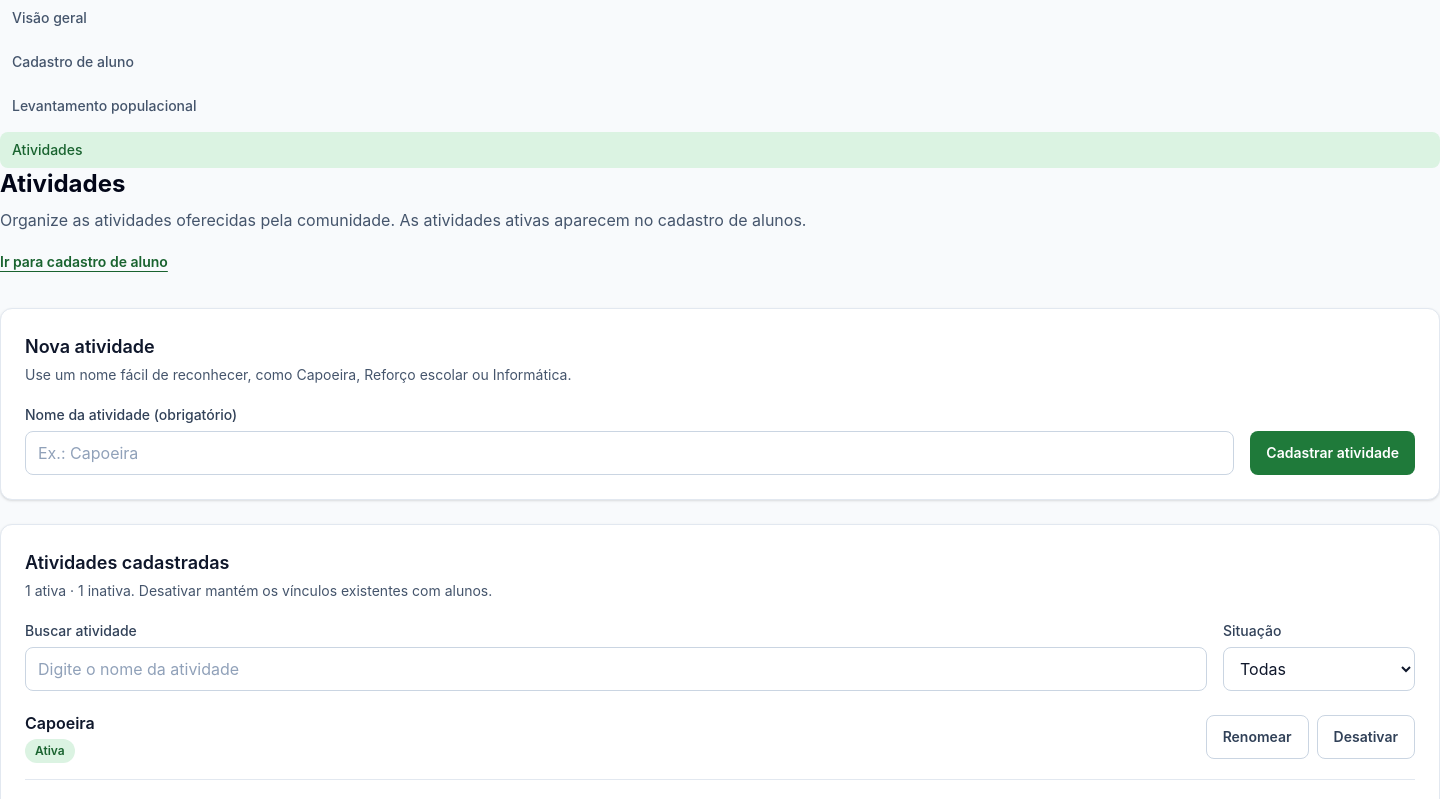
Test case: só desativa depois de confirmar, permite reativar e usa PATCH sem excluir registros
The image size is (1440, 799).
Click the button with aria-label "Desativar Capoeira".
click(1366, 737)  # box [1317, 715, 1415, 759]
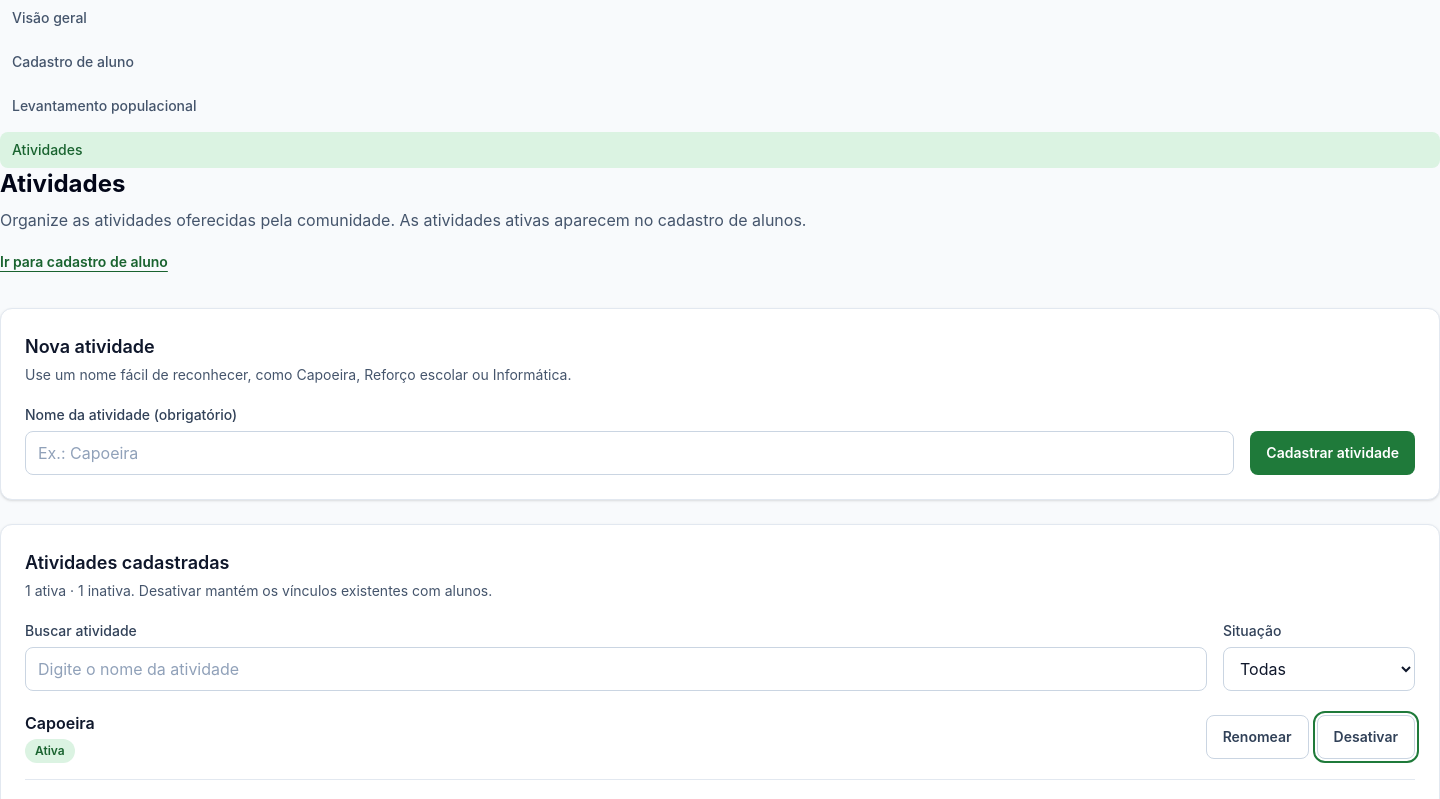
Click the button with aria-label "Desativar Capoeira".
click(1366, 737)  # box [1317, 715, 1415, 759]
(page scrolled)
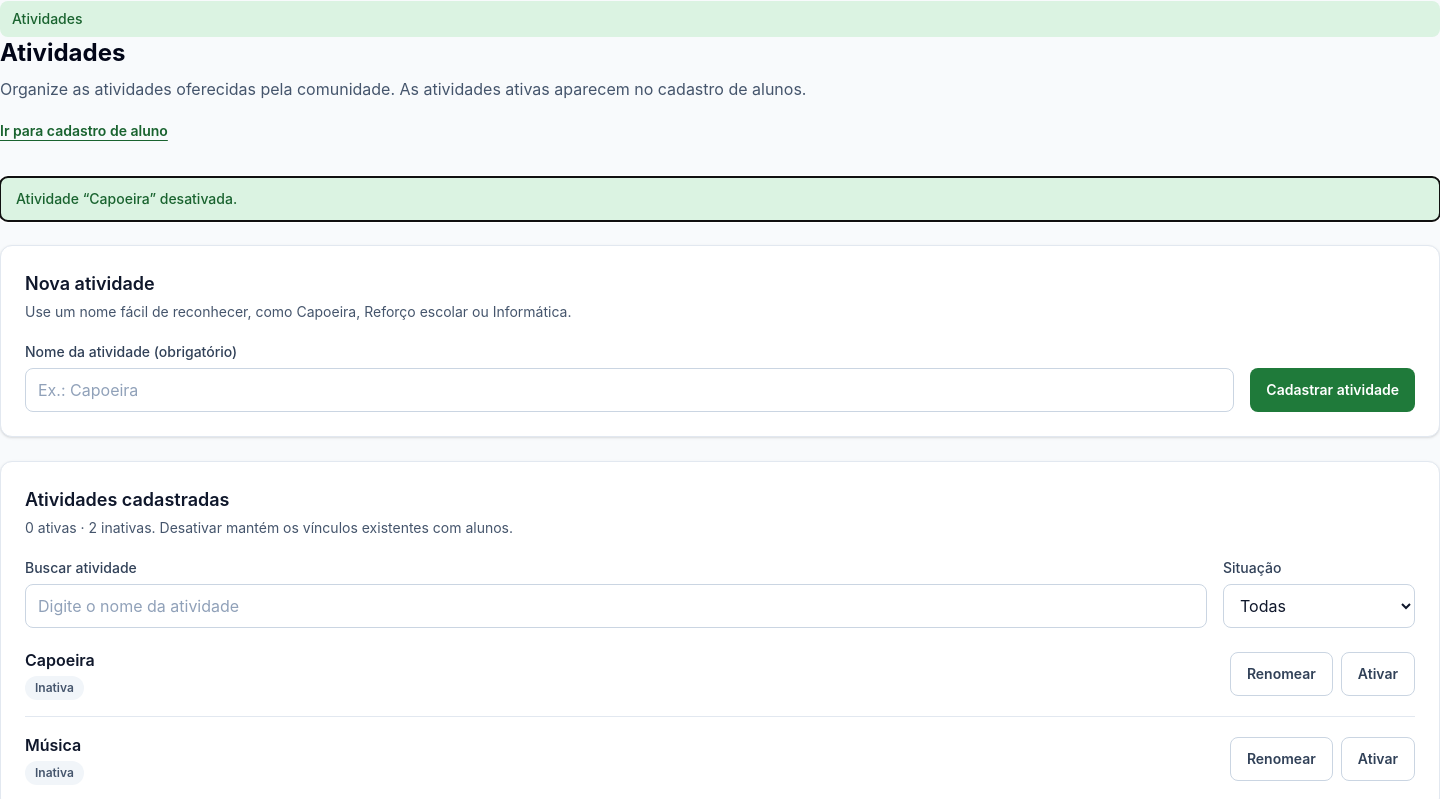
Click the button with aria-label "Ativar Capoeira".
click(1378, 674)  # box [1341, 652, 1415, 696]
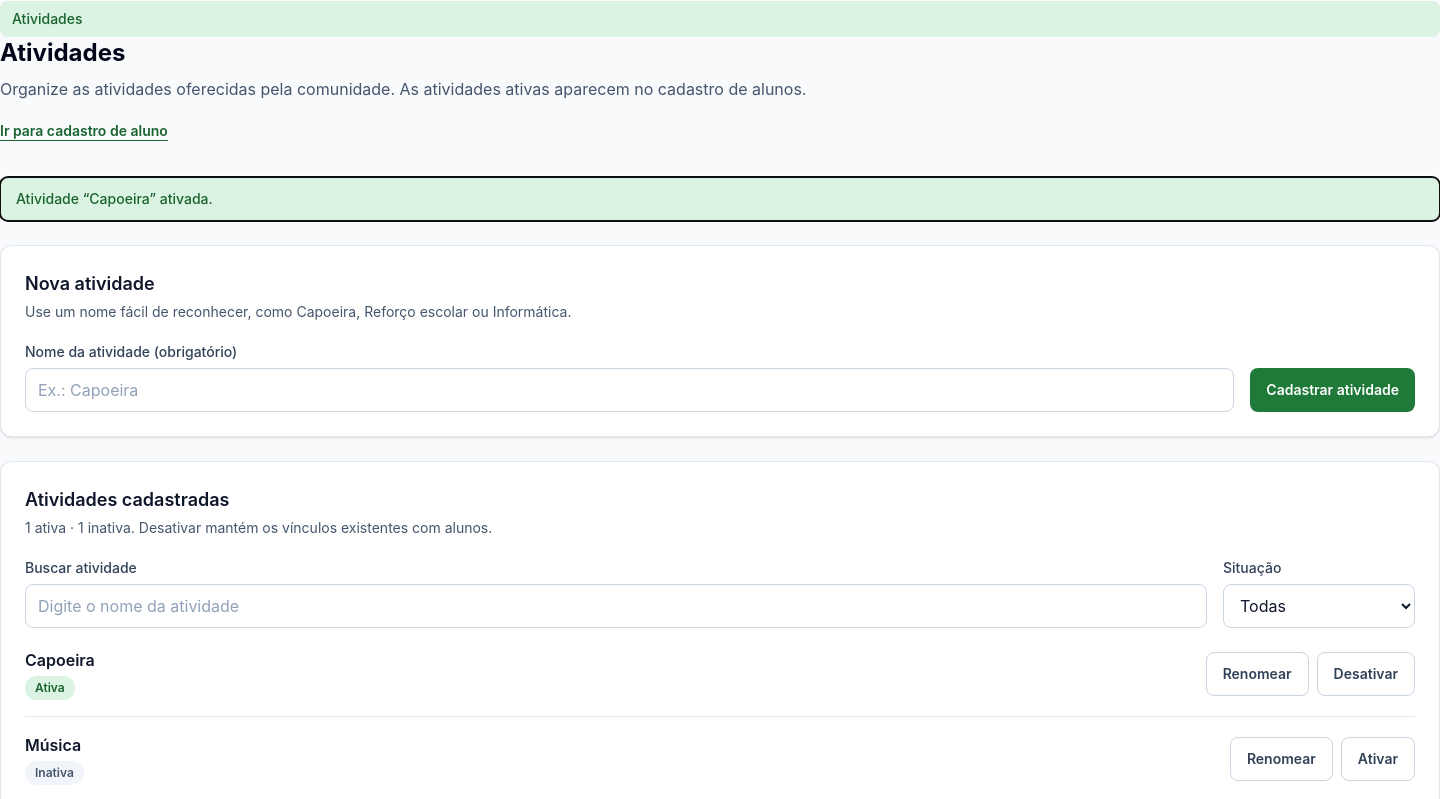
Check: the button with aria-label "Desativar Capoeira" is shown, box [1317, 652, 1415, 696]
